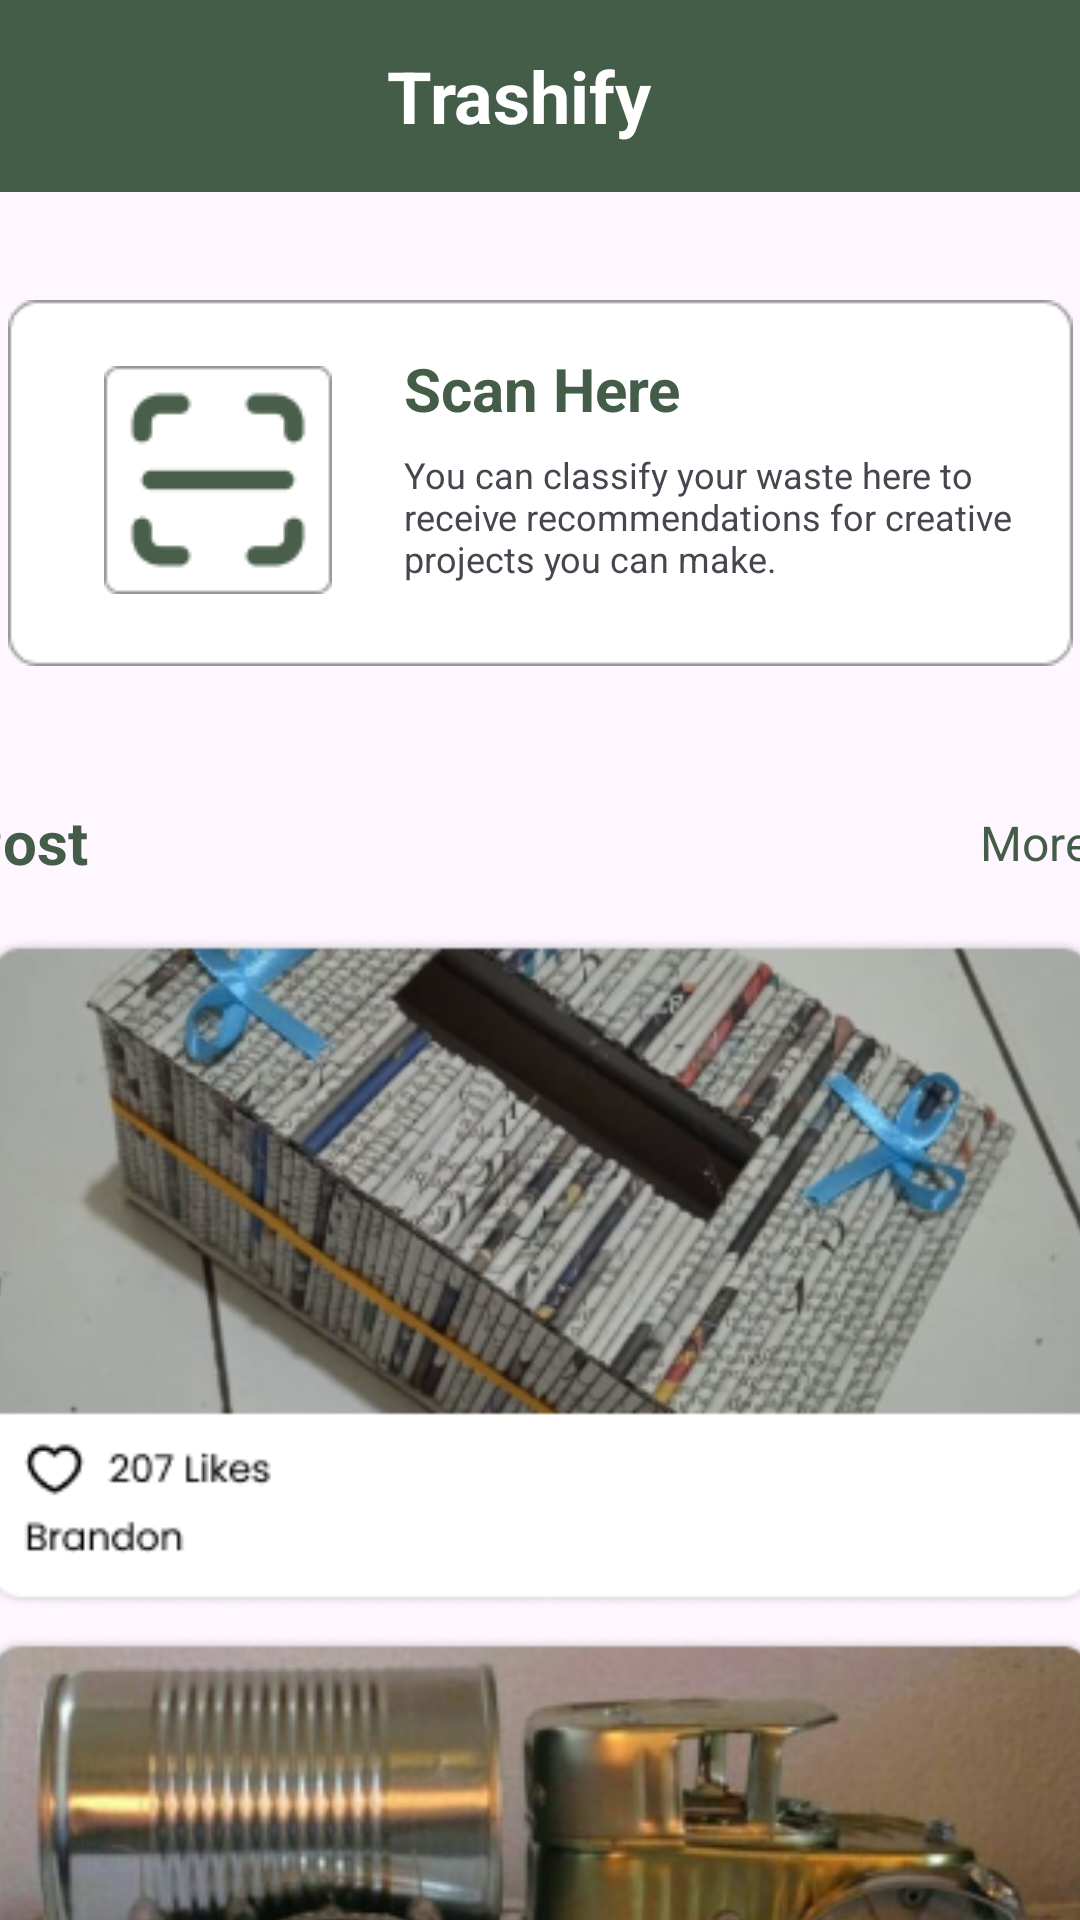

Screen size 1080*1920. Icon name, then its box in pixels as (x1,y1,x2,y2):
tabler scan: (104,366,332,594)
